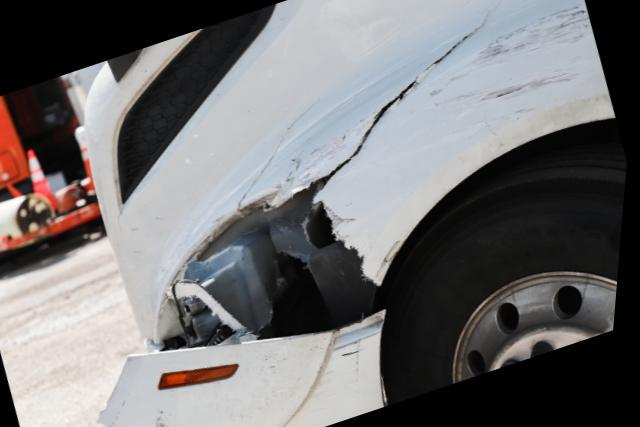crack: (294, 0, 500, 200)
no part: (164, 191, 389, 339)
scratch: (435, 0, 601, 117)
